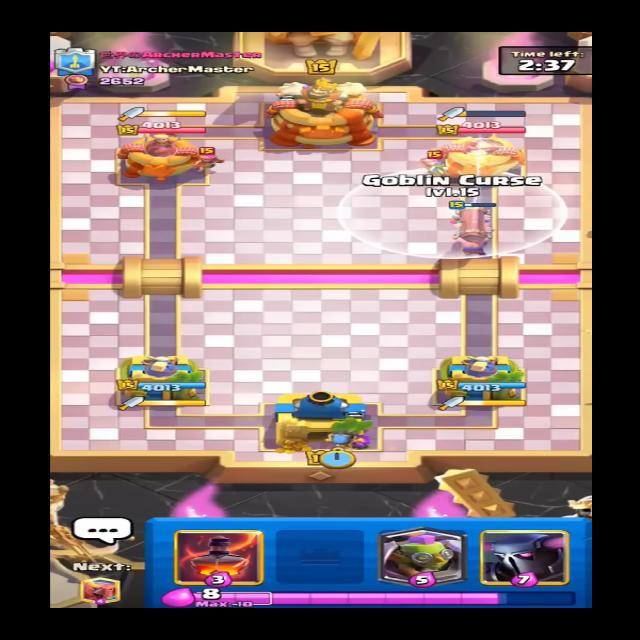Archer: (186, 142, 231, 167), (418, 148, 456, 176)
